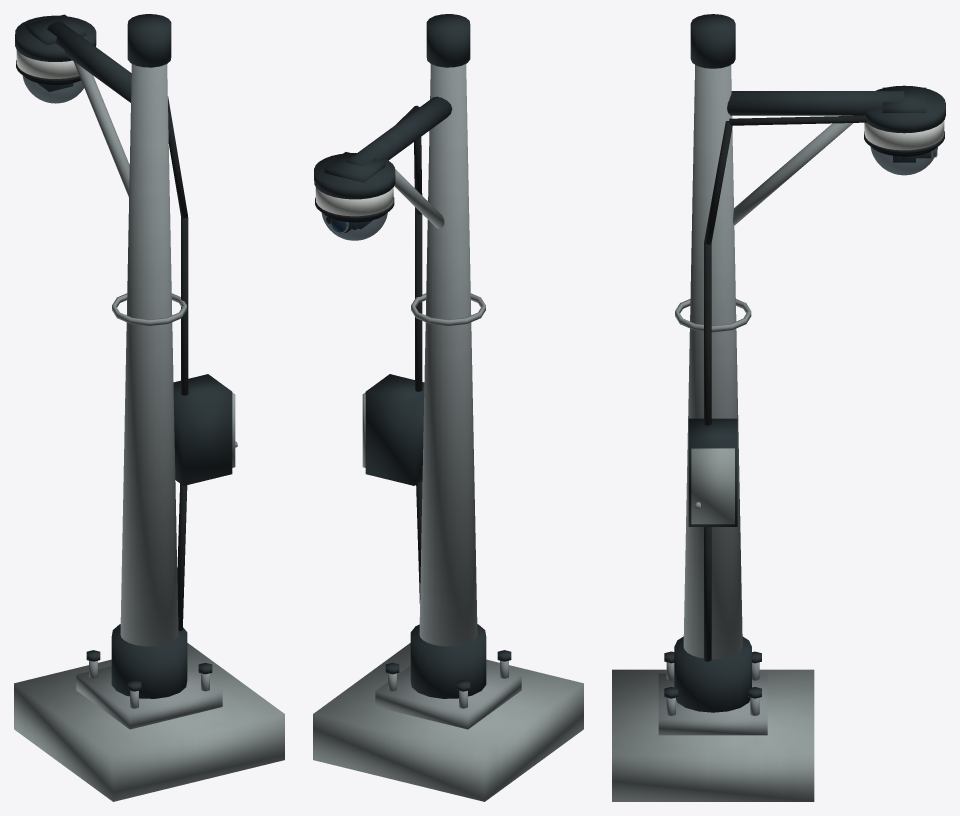
The picture shows the model from 3 angles, left to right: view 1: azimuth 30°, elevation 25°; view 2: azimuth 150°, elevation 25°; view 3: azimuth 270°, elevation 25°; orthographic projection.
Visible parts, largest first — view 1: VIS_Galvanized_Tapered_Mast_001, VIS_Concrete_Pad_001, VIS_Power_Junction_Cabinet_001, VIS_Base_Plate_001, VIS_Mast_Base_Collar_001, VIS_Outrigger_CrossArm_001, VIS_Upper_Collar_001, VIS_Outrigger_Diagonal_Stay_001, VIS_Dome_Ceiling_Flange_001, VIS_Weatherproof_Conduit_002, VIS_Weatherproof_Conduit_001, VIS_Dome_Cast_Housing_001 (+4 smaller); view 2: VIS_Galvanized_Tapered_Mast_001, VIS_Concrete_Pad_001, VIS_Power_Junction_Cabinet_001, VIS_Base_Plate_001, VIS_Mast_Base_Collar_001, VIS_Outrigger_CrossArm_001, VIS_Upper_Collar_001, VIS_Dome_Ceiling_Flange_001, VIS_Dome_Cast_Housing_001, VIS_Weatherproof_Conduit_002, VIS_Camera_Mount_Plate_001, VIS_Dome_Tinted_Optical_Cover_001 (+3 smaller); view 3: VIS_Galvanized_Tapered_Mast_001, VIS_Concrete_Pad_001, VIS_Mast_Base_Collar_001, VIS_Outrigger_CrossArm_001, VIS_Base_Plate_001, VIS_Cabinet_Door_001, VIS_Upper_Collar_001, VIS_Power_Junction_Cabinet_001, VIS_Outrigger_Diagonal_Stay_001, VIS_Dome_Ceiling_Flange_001, VIS_Weatherproof_Conduit_002, VIS_Dome_Cast_Housing_001 (+6 smaller).
Boxes of the visible parts, x1,y1,x2,y2 form: VIS_Galvanized_Tapered_Mast_001: (120,64,178,646); VIS_Concrete_Pad_001: (14,643,284,801); VIS_Power_Junction_Cabinet_001: (173,374,232,485); VIS_Base_Plate_001: (76,665,222,729); VIS_Mast_Base_Collar_001: (111,624,187,698); VIS_Outrigger_CrossArm_001: (47,21,131,102); VIS_Upper_Collar_001: (127,14,171,67); VIS_Outrigger_Diagonal_Stay_001: (73,61,129,196); VIS_Dome_Ceiling_Flange_001: (15,15,96,61); VIS_Weatherproof_Conduit_002: (181,217,188,395); VIS_Weatherproof_Conduit_001: (177,483,187,631); VIS_Dome_Cast_Housing_001: (16,50,78,78); VIS_Galvanized_Tapered_Mast_001: (419,64,477,646); VIS_Concrete_Pad_001: (313,643,583,801); VIS_Power_Junction_Cabinet_001: (365,374,424,485); VIS_Base_Plate_001: (375,665,521,729); VIS_Mast_Base_Collar_001: (410,624,486,698); VIS_Outrigger_CrossArm_001: (346,96,452,166); VIS_Upper_Collar_001: (426,14,470,67); VIS_Dome_Ceiling_Flange_001: (314,153,395,199); VIS_Dome_Cast_Housing_001: (315,187,393,216); VIS_Weatherproof_Conduit_002: (415,213,422,391); VIS_Camera_Mount_Plate_001: (324,152,385,182); VIS_Dome_Tinted_Optical_Cover_001: (321,212,387,240); VIS_Galvanized_Tapered_Mast_001: (683,65,742,658); VIS_Concrete_Pad_001: (612,669,814,801); VIS_Mast_Base_Collar_001: (674,636,751,712); VIS_Outrigger_CrossArm_001: (727,91,904,115); VIS_Base_Plate_001: (658,673,767,735); VIS_Cabinet_Door_001: (691,448,734,524); VIS_Upper_Collar_001: (690,14,735,68); VIS_Power_Junction_Cabinet_001: (688,418,737,526); VIS_Outrigger_Diagonal_Stay_001: (733,115,853,225); VIS_Dome_Ceiling_Flange_001: (863,85,945,133); VIS_Weatherproof_Conduit_002: (704,243,711,425); VIS_Dome_Cast_Housing_001: (864,120,944,150).
Bounding box in the file's own units: 0.74 × 2.97 × 1.22.
Materials: 9 (9 with a texture image).
